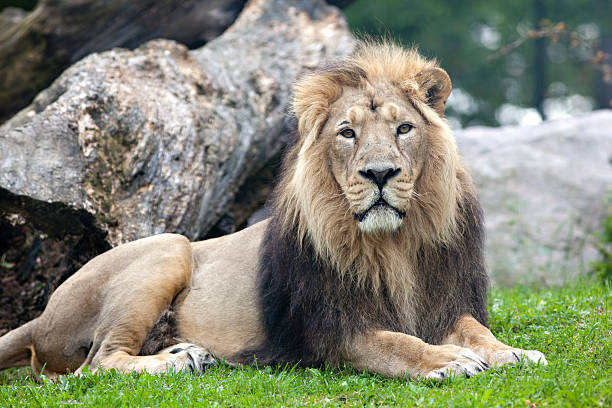lion: (256, 34, 510, 356)
